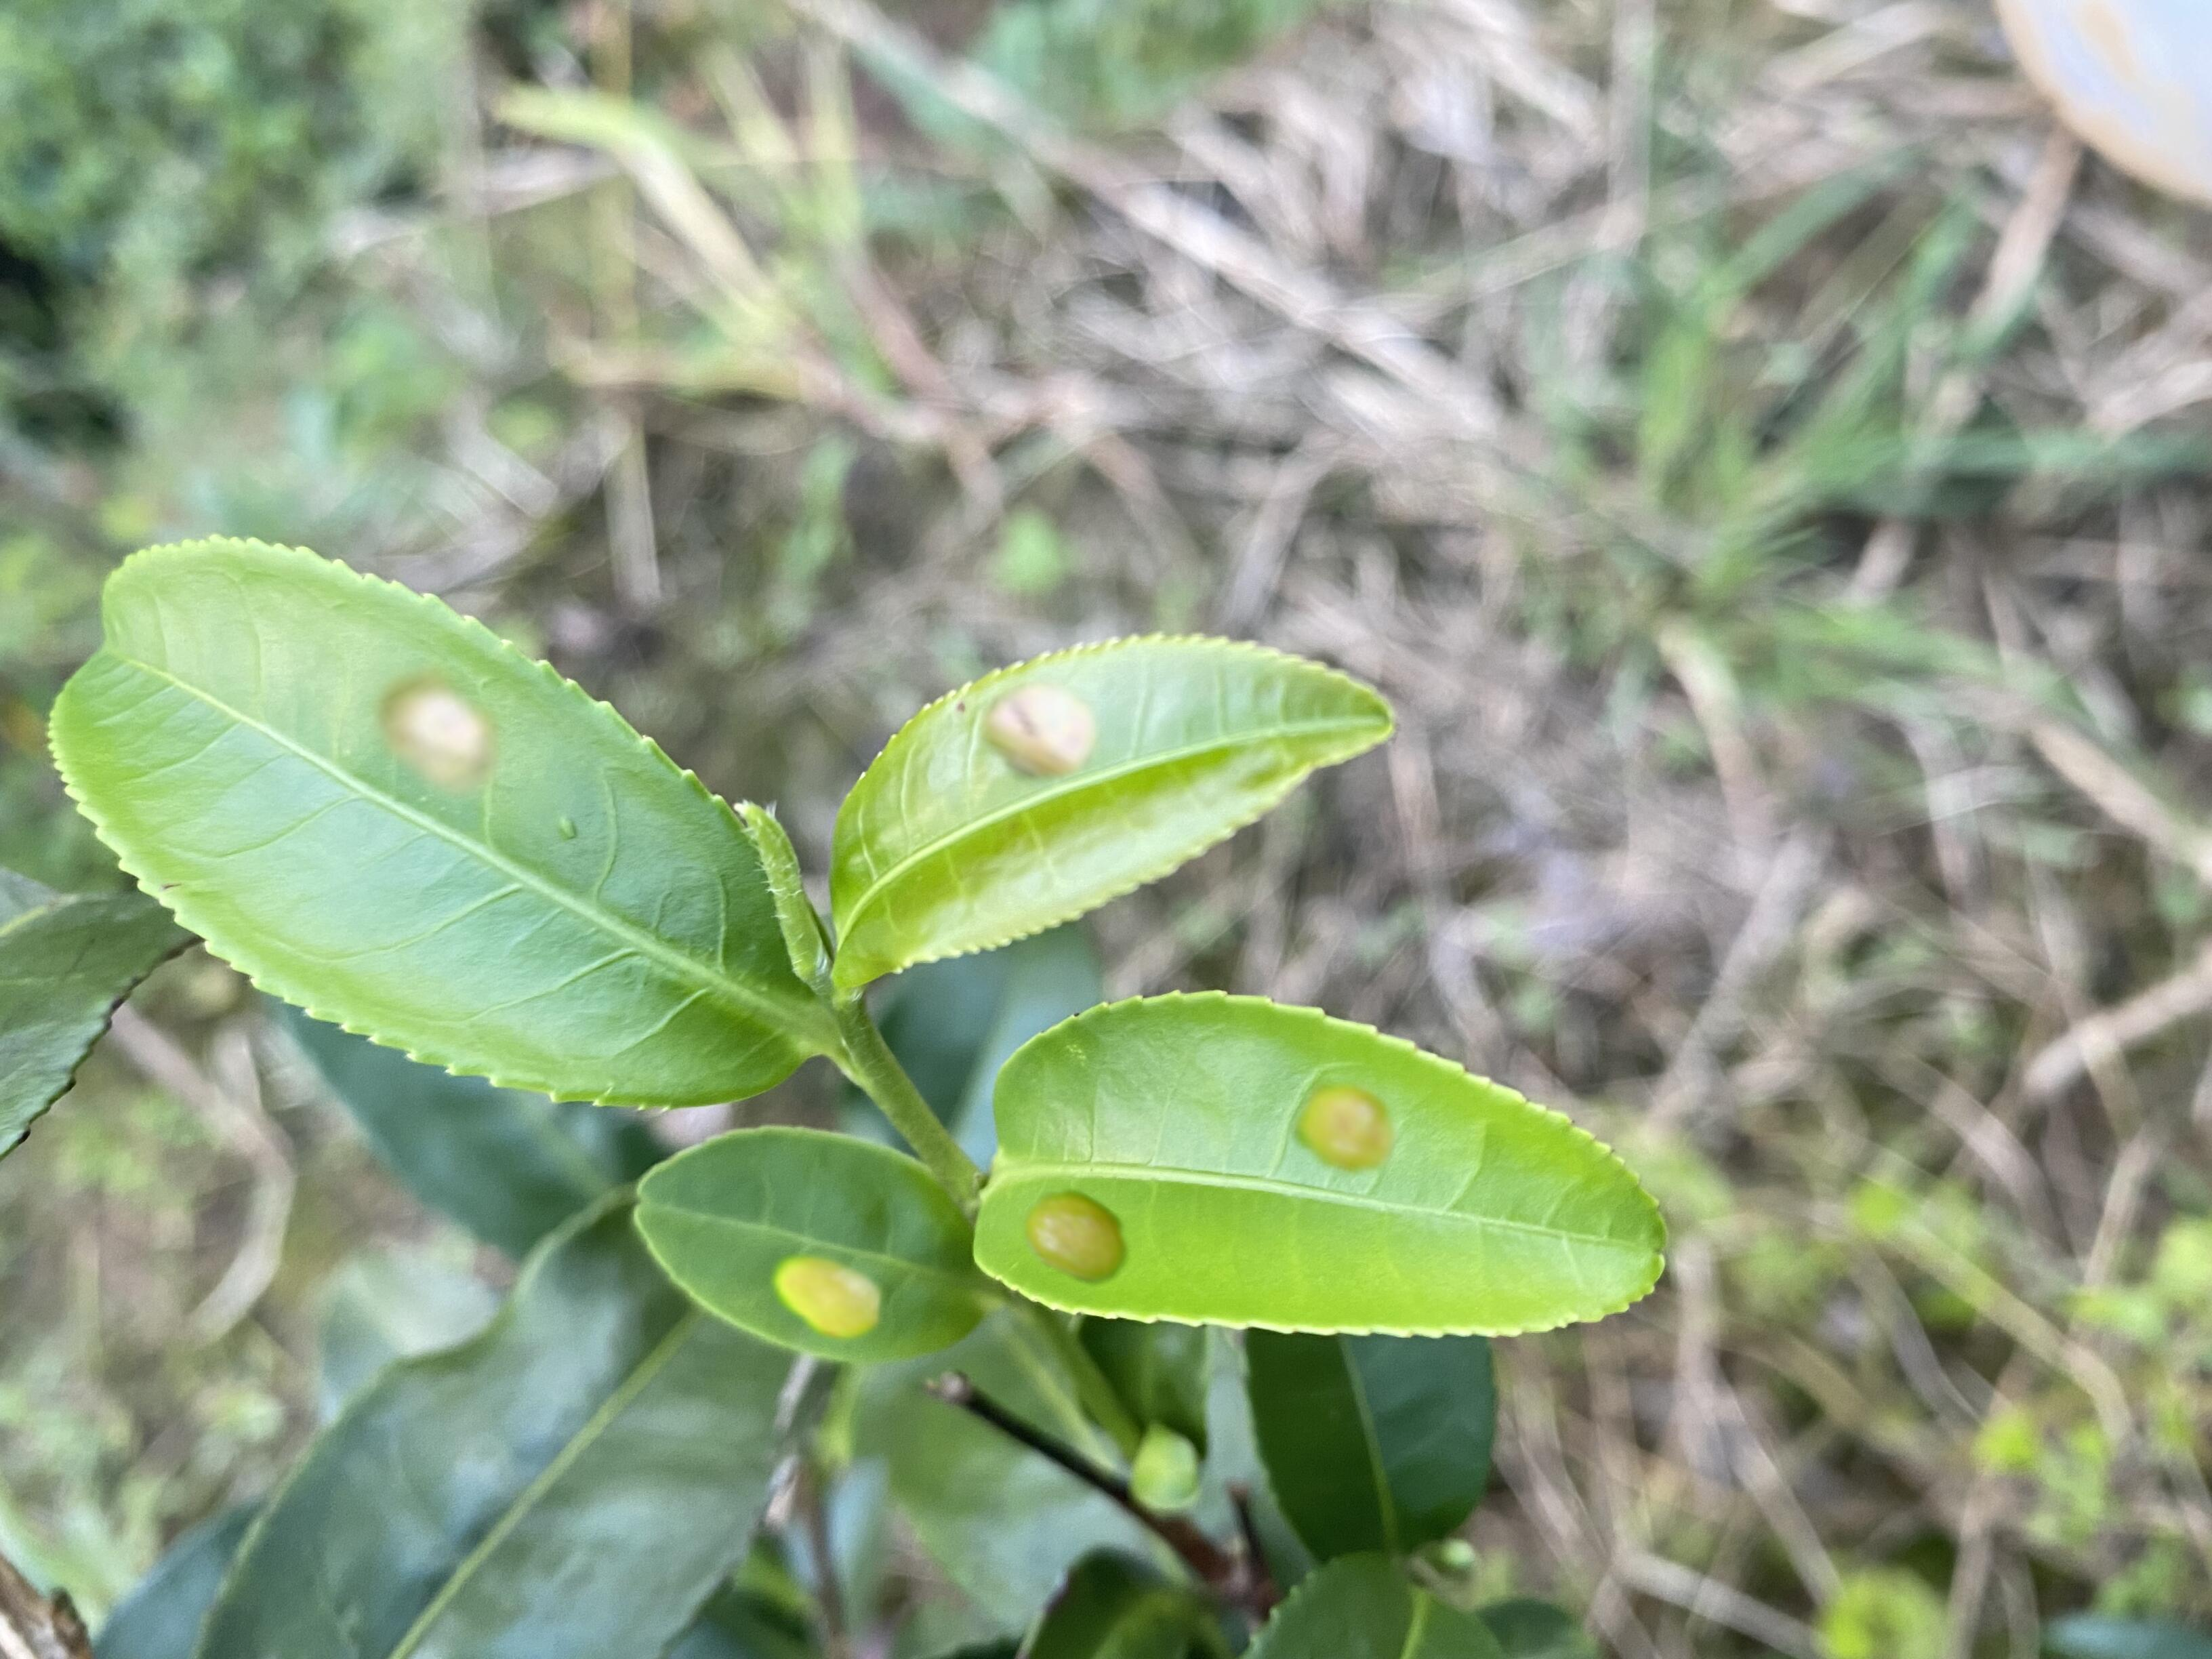chabing_high: (974, 988, 1674, 1338)
chabing_low: (45, 535, 815, 1114), (829, 634, 1397, 988), (631, 1126, 989, 1364)
